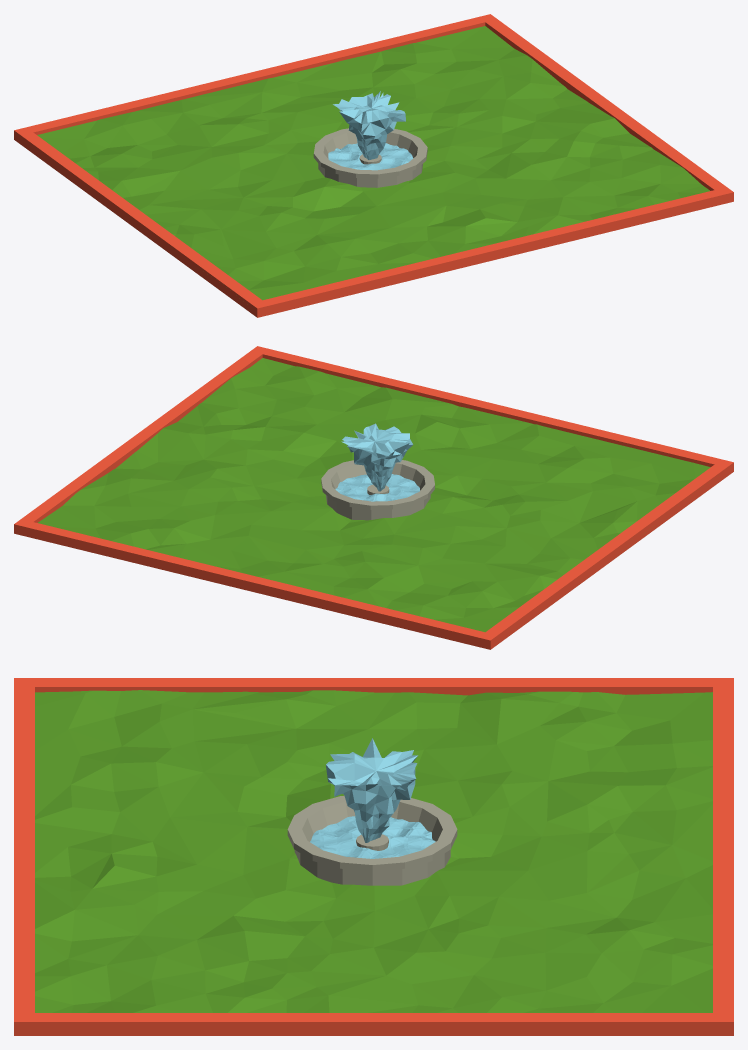
File: S_Fountain.dae
3 views of the same model, one above another, from view 1: azimuth 30°, elevation 25°; view 2: azimuth 150°, elevation 25°; view 3: azimuth 270°, elevation 25° (orthographic). The views are drawn at different scales.
Parts seen in each view (by area): view 1: Plane.056; view 2: Plane.056; view 3: Plane.056.
Part boxes in pixels (<box>): Plane.056: <box>14,14,733,317</box>; Plane.056: <box>14,346,733,649</box>; Plane.056: <box>14,678,733,1035</box>.
Size of the model in its own units: 65.03 by 57.54 by 8.87.
